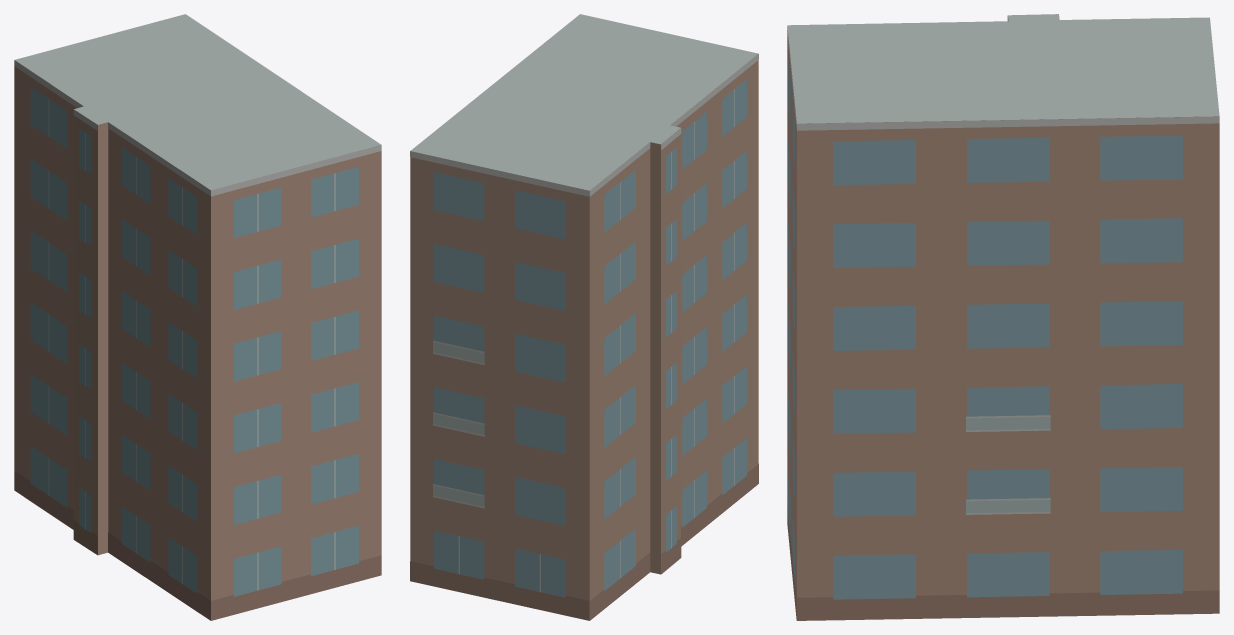
Rendered from survey-upis-32547132.glb.
The picture shows the model from 3 angles, left to right: view 1: azimuth 30°, elevation 25°; view 2: azimuth 150°, elevation 25°; view 3: azimuth 270°, elevation 25°; orthographic projection. The views are drawn at different scales.
Parts seen in each view (by area): view 1: survey-upis-32547132.tmp; view 2: survey-upis-32547132.tmp; view 3: survey-upis-32547132.tmp.
Part boxes in pixels (x1,y1,x2,y2): survey-upis-32547132.tmp: [14, 14, 381, 620]; survey-upis-32547132.tmp: [410, 14, 758, 620]; survey-upis-32547132.tmp: [787, 14, 1219, 620].
Bounding box in the file's own units: 8.14 × 17.2 × 13.56.
